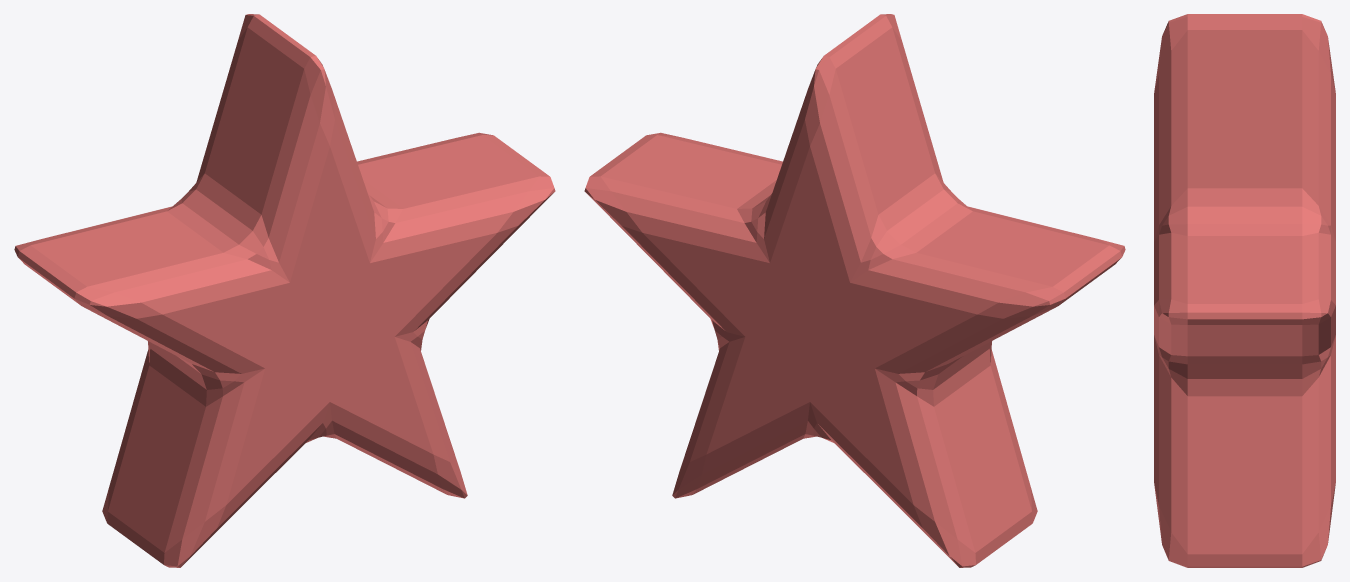
File: star-eye.glb
3 renders of one model, left to right at view 1: azimuth 30°, elevation 25°; view 2: azimuth 150°, elevation 25°; view 3: azimuth 270°, elevation 25°, orthographic.
Parts seen in each view (by area): view 1: Circle; view 2: Circle; view 3: Circle.
Part boxes in pixels (bbox=[...]): Circle: bbox=[14, 14, 555, 567]; Circle: bbox=[584, 14, 1125, 567]; Circle: bbox=[1154, 14, 1335, 567].
Bounding box in the file's own units: 0.0158 × 0.0151 × 0.00516.
